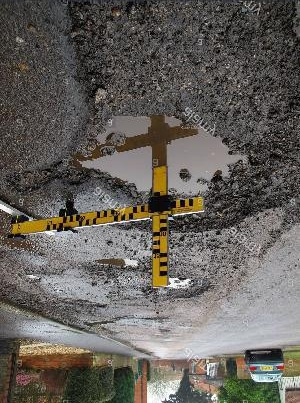pothole: (62, 70, 299, 238), (142, 274, 211, 306), (89, 256, 143, 273)
